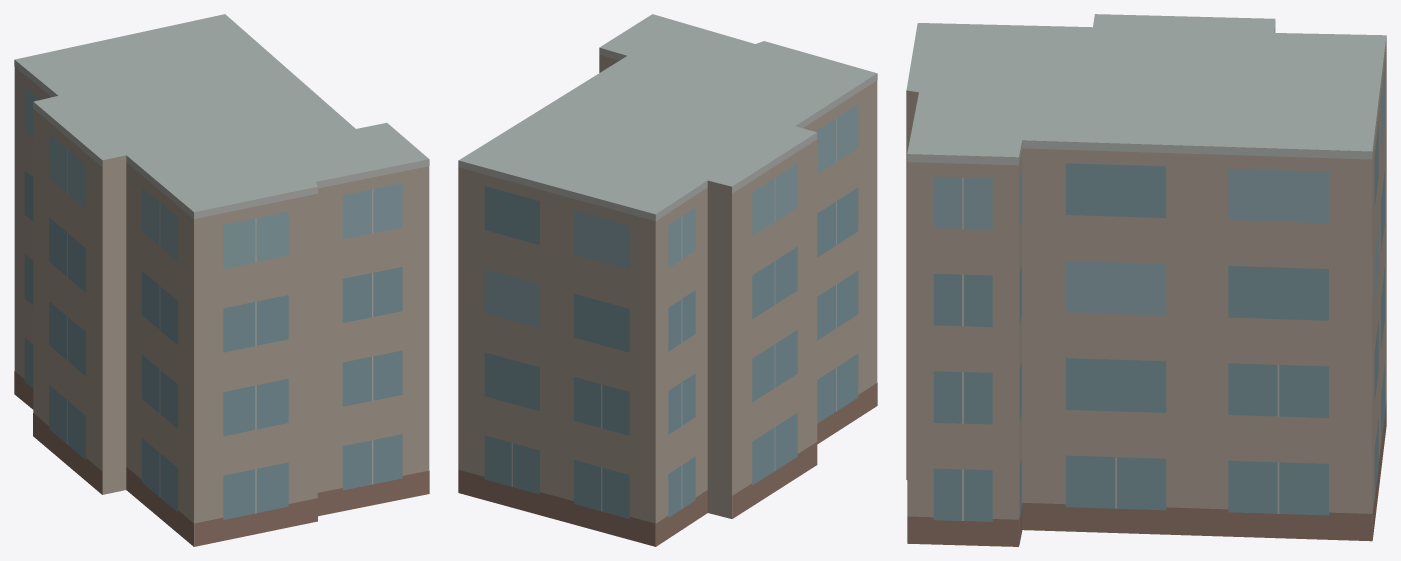
Rendered from survey-upis-32826855.glb.
3 views of the same model, side by side, from view 1: azimuth 30°, elevation 25°; view 2: azimuth 150°, elevation 25°; view 3: azimuth 270°, elevation 25° (orthographic). The views are drawn at different scales.
Parts seen in each view (by area): view 1: survey-upis-32826855.tmp; view 2: survey-upis-32826855.tmp; view 3: survey-upis-32826855.tmp.
Boxes of the visible parts, left/top/right/bottom form: survey-upis-32826855.tmp: left=14, top=14, right=429, bottom=546; survey-upis-32826855.tmp: left=458, top=14, right=877, bottom=546; survey-upis-32826855.tmp: left=906, top=14, right=1386, bottom=546.
Bounding box in the file's own units: 9.31 × 11.8 × 13.19.
